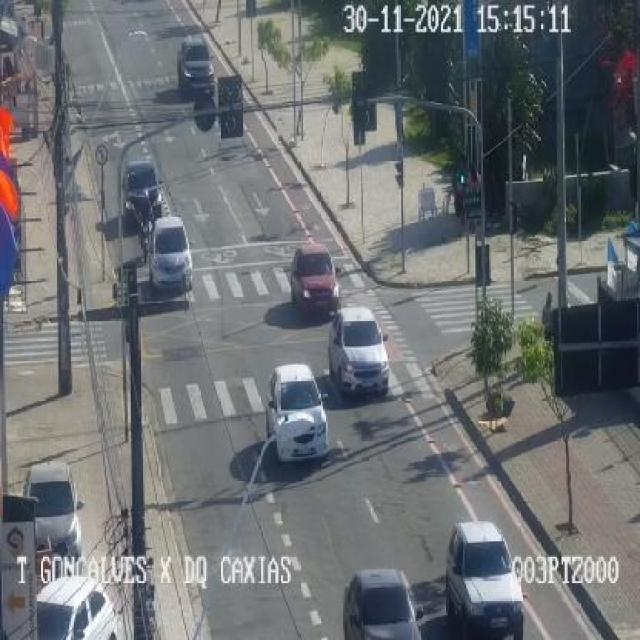car: (446, 520, 522, 638), (24, 462, 81, 572), (266, 363, 328, 460), (342, 568, 420, 640), (35, 574, 117, 640), (328, 306, 387, 394), (290, 243, 339, 314), (148, 216, 192, 290), (122, 158, 161, 220), (177, 38, 214, 96)
motorbike: (138, 188, 154, 262), (540, 292, 554, 372), (466, 163, 479, 231), (452, 165, 462, 230)
